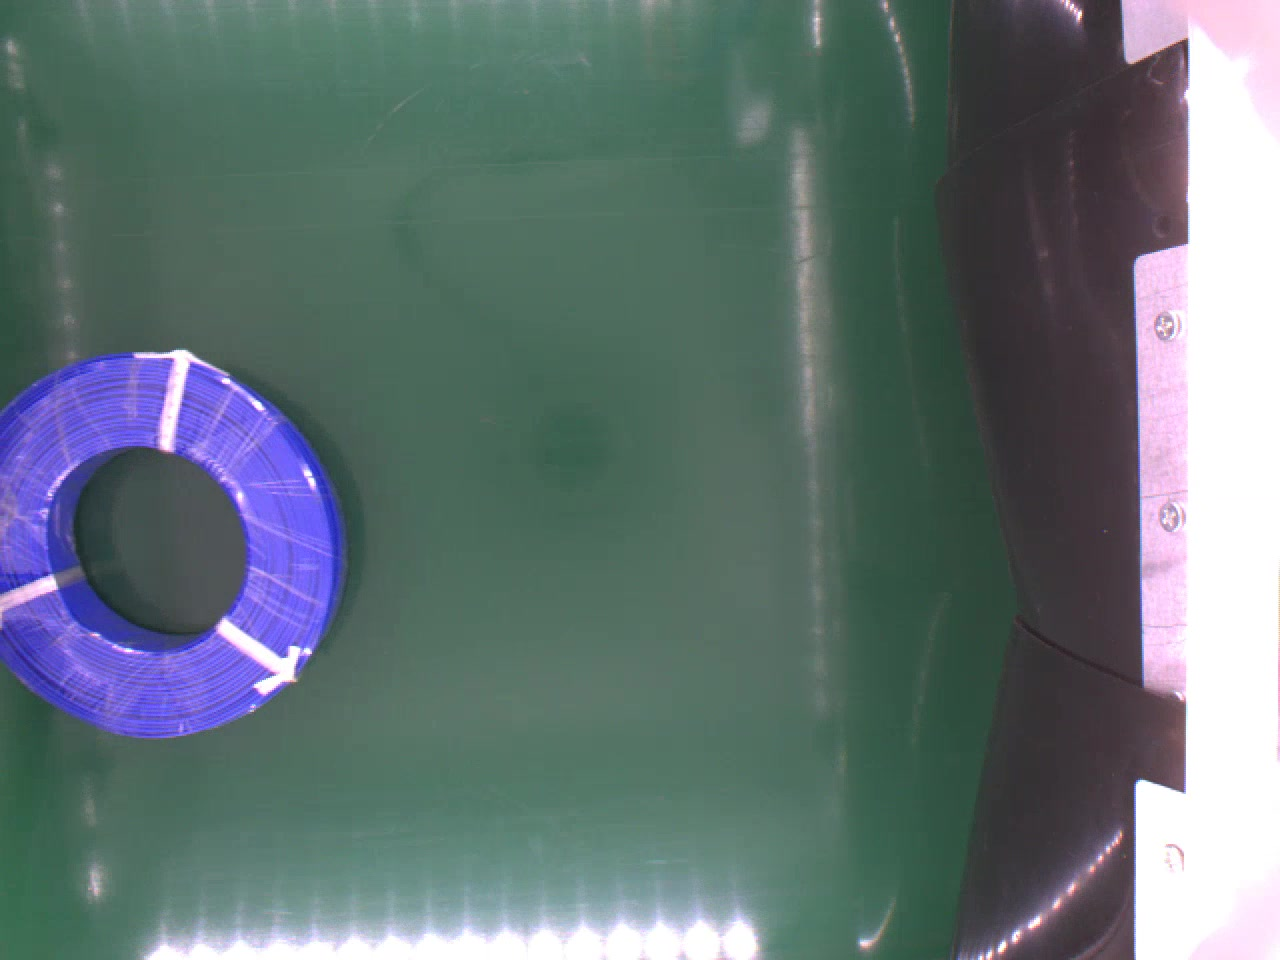blue: (0, 350, 346, 742)
